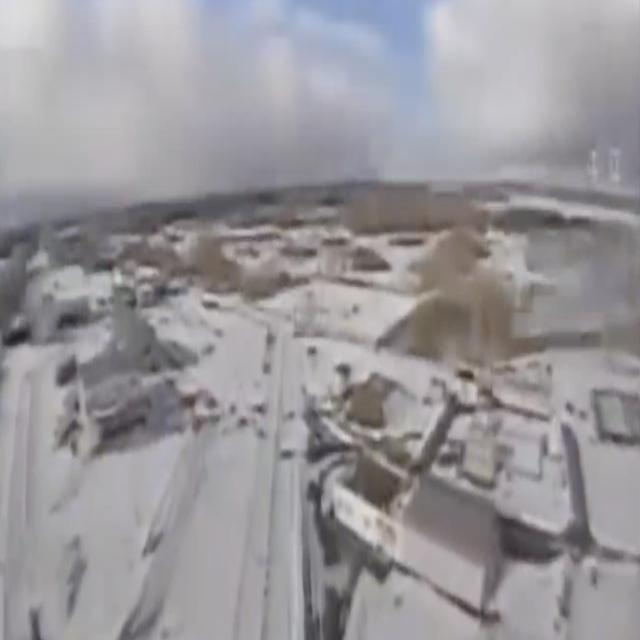vehicle: (266, 324, 278, 352), (262, 356, 274, 375), (352, 300, 362, 320)
